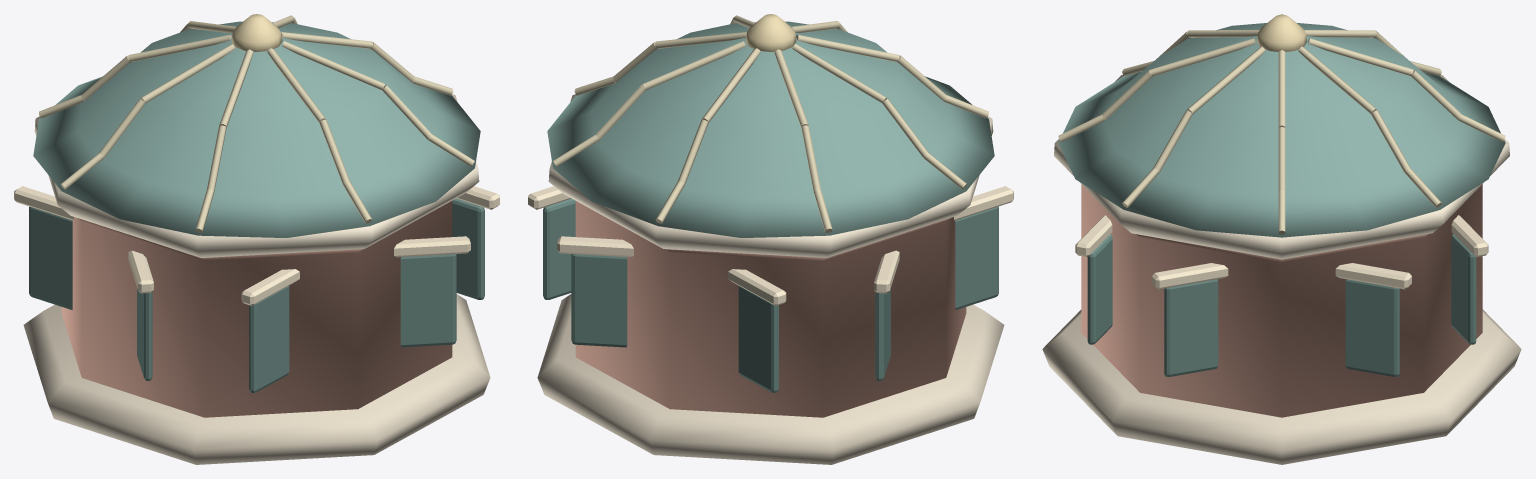
Rendered from gatehouse.fbx.
3 views of the same model, side by side, from view 1: azimuth 30°, elevation 25°; view 2: azimuth 150°, elevation 25°; view 3: azimuth 270°, elevation 25° (orthographic).
Parts seen in each view (by area): view 1: gatehouse; view 2: gatehouse; view 3: gatehouse.
Boxes of the visible parts, x1,y1,x2,y2 form: gatehouse: (14, 14, 499, 464); gatehouse: (528, 14, 1013, 464); gatehouse: (1042, 14, 1521, 464).
Bounding box in the file's own units: 5.4 × 4.34 × 5.4.
